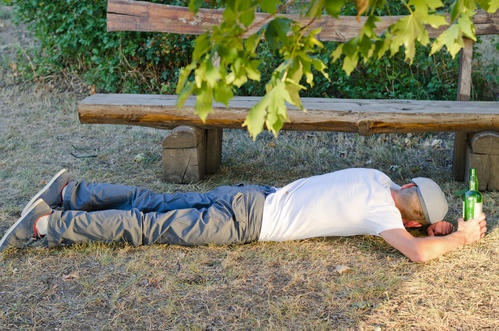falling: (19, 167, 479, 260)
